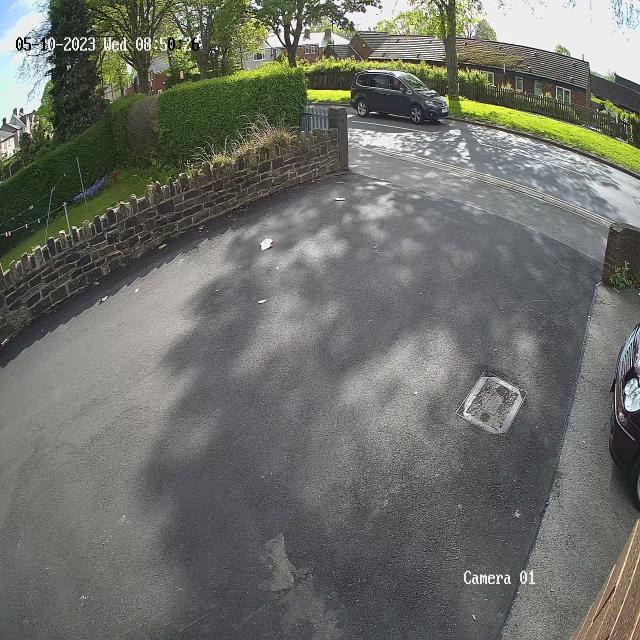vehicle: (344, 63, 458, 129)
